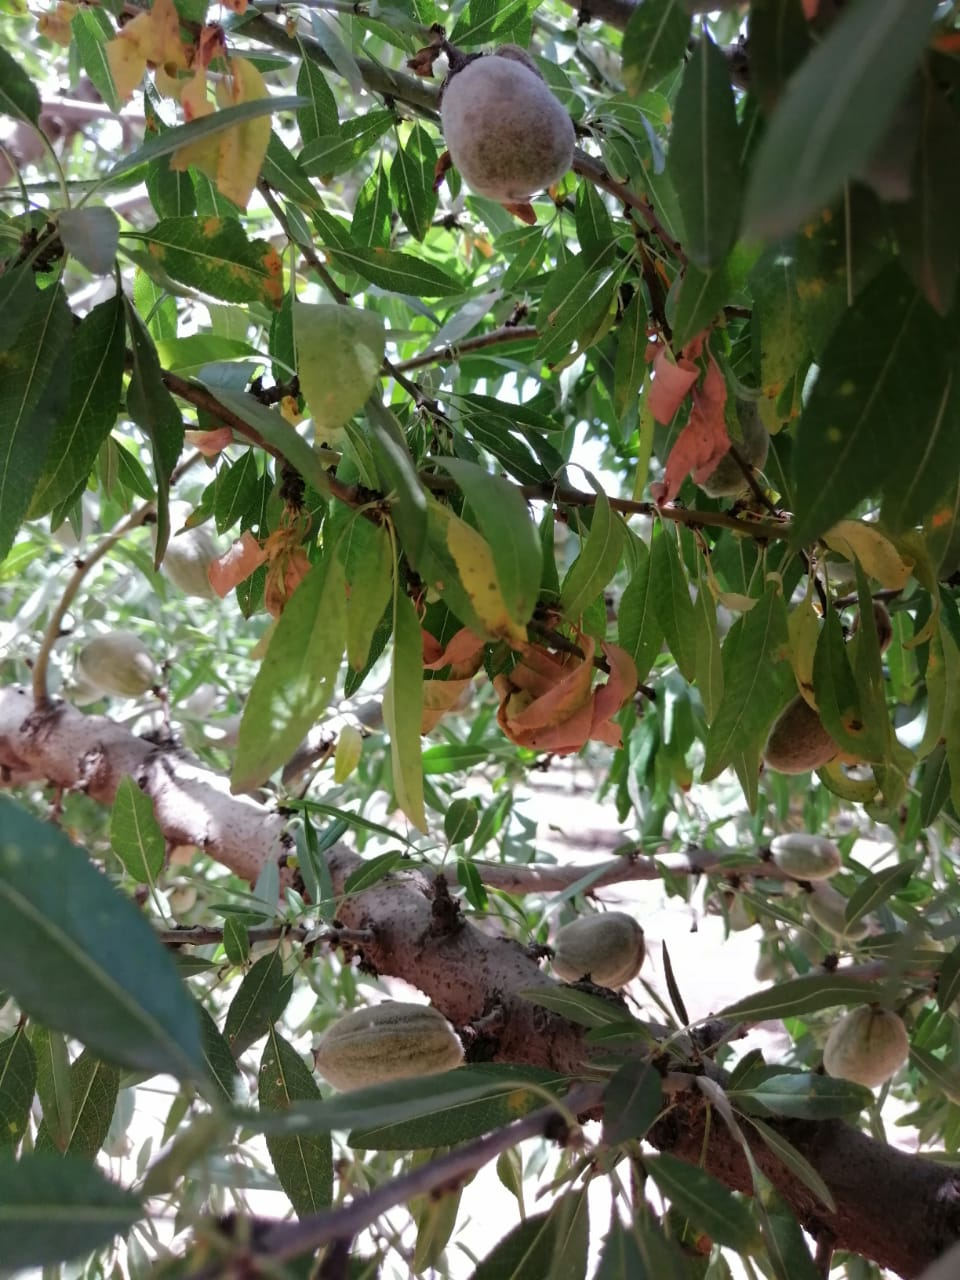chancre fusicocum: (171, 398, 653, 760), (640, 217, 742, 511)
